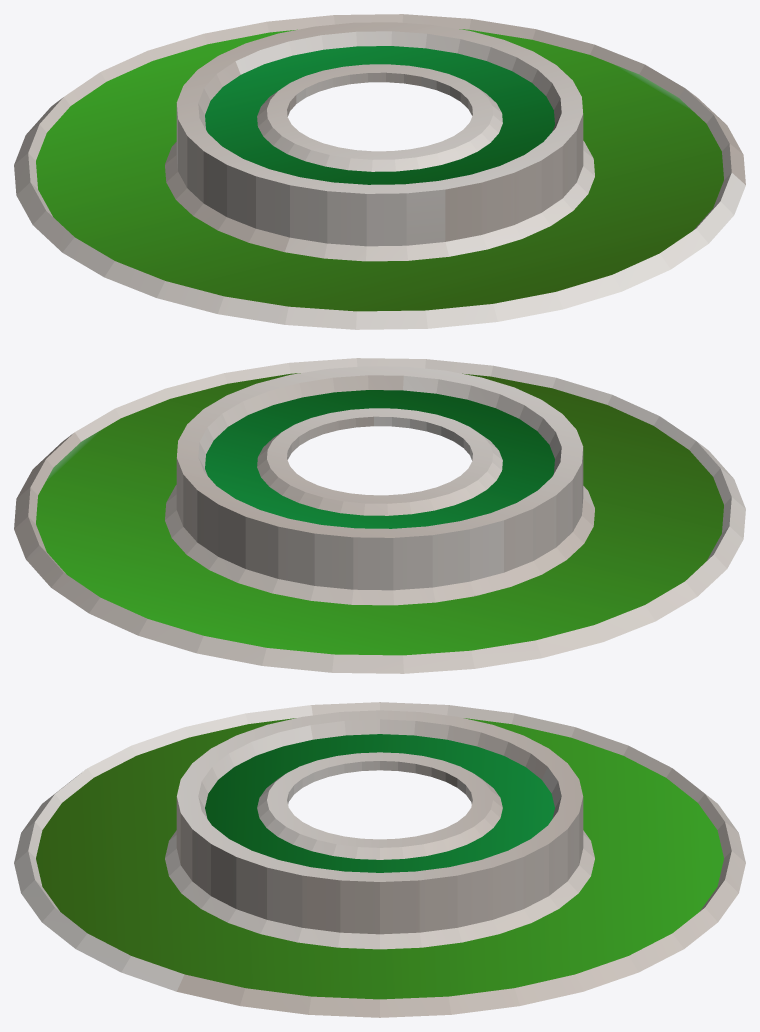
The model's file is town_tree_platform.glb.
3 views of the same model, one above another, from view 1: azimuth 30°, elevation 25°; view 2: azimuth 150°, elevation 25°; view 3: azimuth 270°, elevation 25° (orthographic).
Visible parts, largest first — view 1: Circle; view 2: Circle; view 3: Circle.
Part boxes in pixels (<box>): Circle: <box>14,14,745,329</box>; Circle: <box>14,358,745,673</box>; Circle: <box>14,702,745,1017</box>.
Bounding box in the file's own units: 10 × 1.01 × 10.
1 material, 1 textured.
